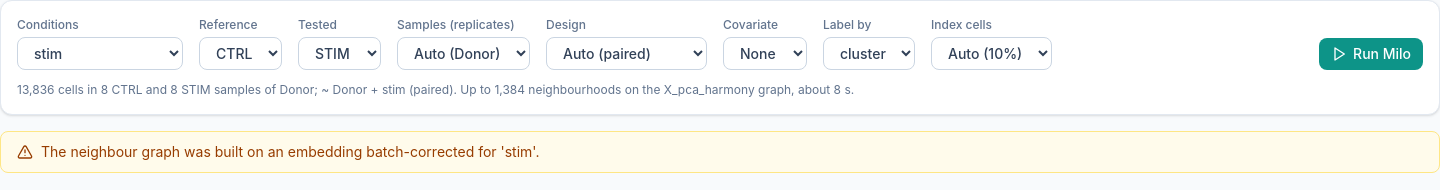
Test: MiloTest › sends the chosen design, covariate and sampled share
Expected: the text with test id "milo-plan" is shown, [17,82,854,97]
Select "Unpaired" in the dropdown named "Milo design". click: (626, 54)
box: [546,37,707,70]
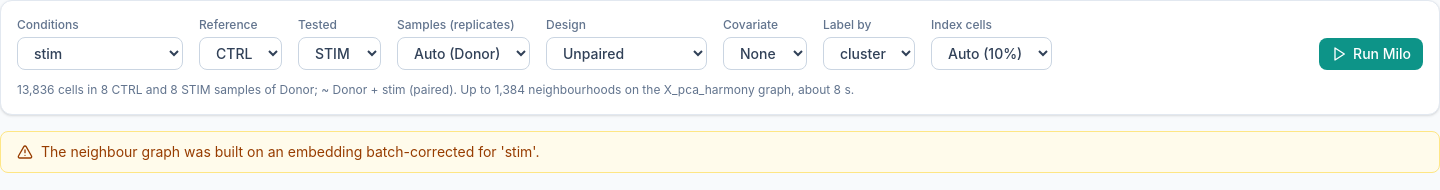
Select "batch" in the dropdown named "Milo covariate". click: (765, 54)
box: [723,37,807,70]
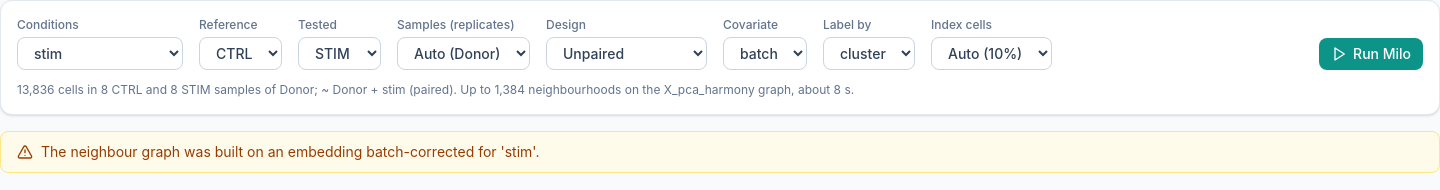
Select "5%" in the dropdown named "Milo sampled share". click: (992, 54)
box: [931,37,1052,70]
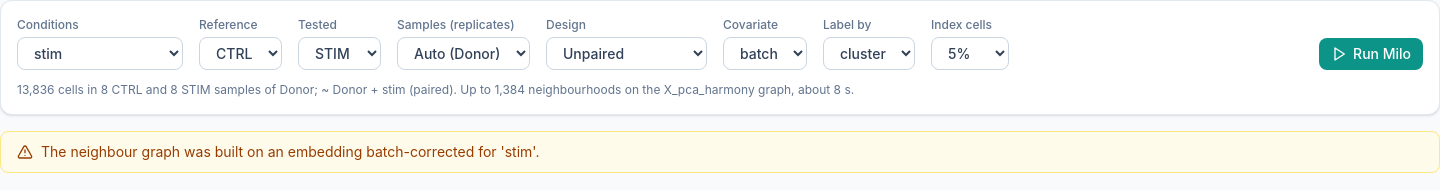
Select "STIM" in the dropdown named "Milo reference". click: (240, 54)
box: [199,37,282,70]
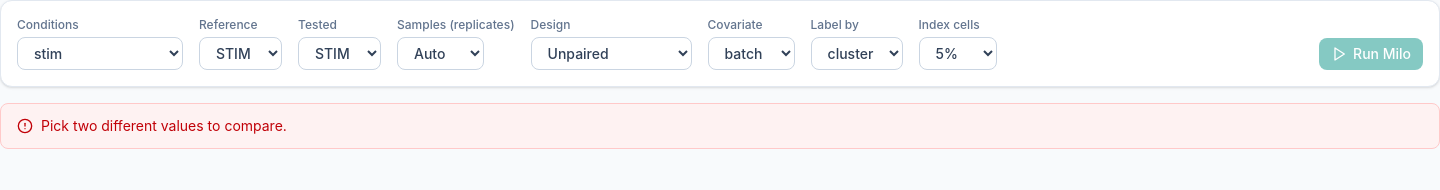
Select "CTRL" in the dropdown named "Milo tested condition". click: (340, 54)
box: [298,37,381,70]
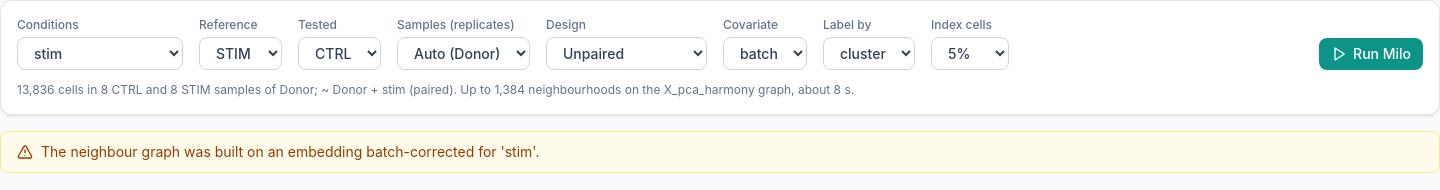
Select "STIM" in the dropdown named "Milo tested condition". click: (340, 54)
box: [298,37,381,70]
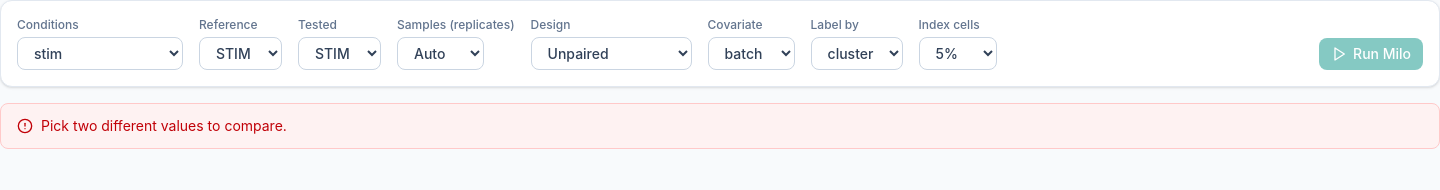
Now the text "Pick two different values to compare." is shown, box [0,103,1439,149]
Now the button "Run Milo" is disabled, box [1319,38,1423,70]
